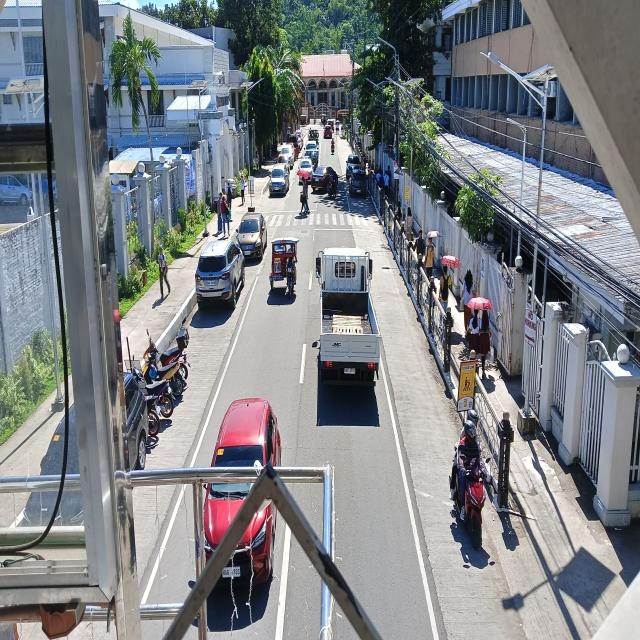Motorcycle: (449, 410, 487, 558), (143, 332, 188, 382), (330, 137, 336, 156)
Truck: (312, 240, 389, 411)
